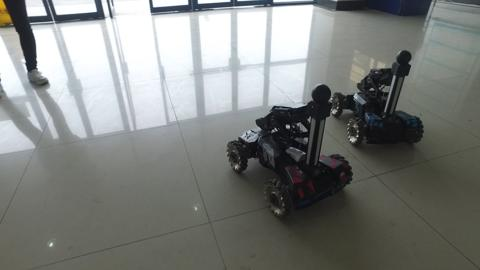chariot: (222, 77, 354, 220), (331, 49, 427, 148)
